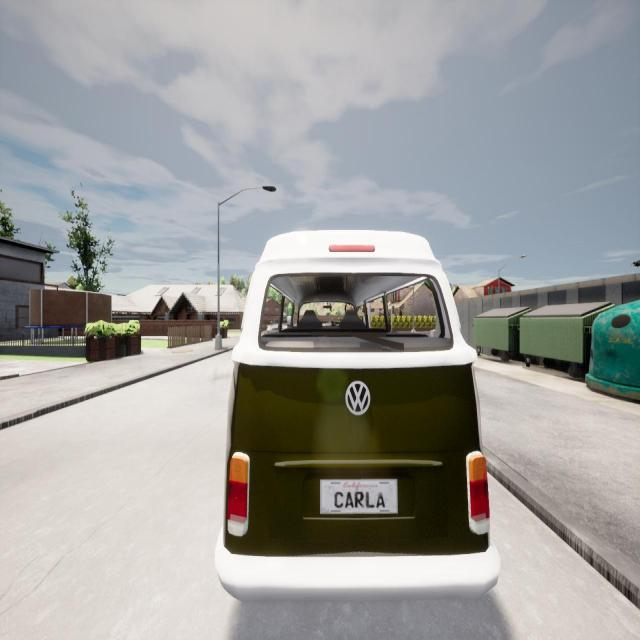Vehicle: (216, 231, 500, 600)
traffic_light: (392, 306, 394, 314)
